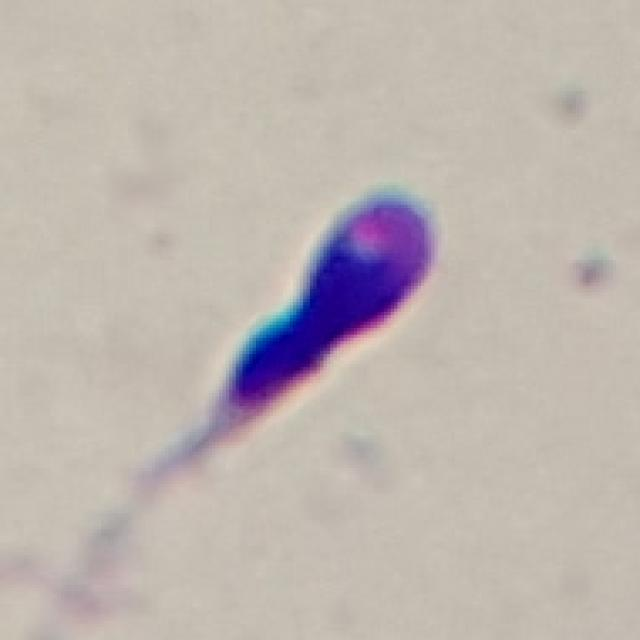abnormal sperm: (125, 172, 463, 513)
